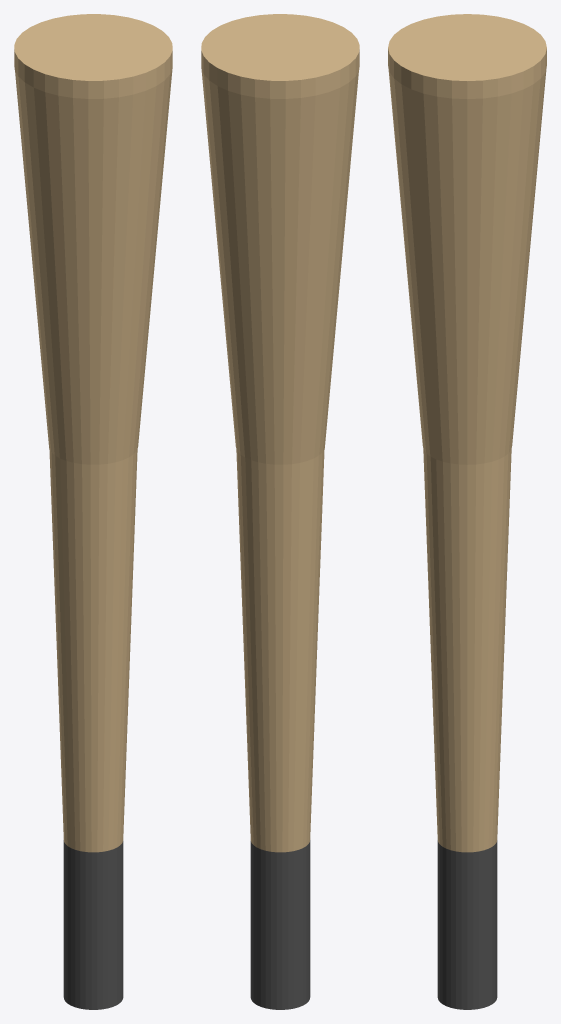
The model's file is BaseballBat.glb.
The picture shows the model from 3 angles, left to right: view 1: azimuth 30°, elevation 25°; view 2: azimuth 150°, elevation 25°; view 3: azimuth 270°, elevation 25°; orthographic projection.
Parts seen in each view (by area): view 1: Bat_Barrel, Bat_Handle, Bat_Cap, Bat_Grip; view 2: Bat_Barrel, Bat_Handle, Bat_Cap, Bat_Grip; view 3: Bat_Barrel, Bat_Handle, Bat_Cap, Bat_Grip.
Boxes of the visible parts, left/top/right/bottom form: Bat_Barrel: left=15, top=69, right=172, bottom=464; Bat_Handle: left=49, top=449, right=137, bottom=852; Bat_Cap: left=14, top=14, right=172, bottom=98; Bat_Grip: left=63, top=840, right=123, bottom=1009; Bat_Barrel: left=201, top=69, right=358, bottom=464; Bat_Handle: left=236, top=449, right=324, bottom=852; Bat_Cap: left=201, top=14, right=359, bottom=98; Bat_Grip: left=250, top=840, right=310, bottom=1009; Bat_Barrel: left=388, top=68, right=546, bottom=464; Bat_Handle: left=423, top=449, right=511, bottom=852; Bat_Cap: left=388, top=14, right=546, bottom=98; Bat_Grip: left=437, top=840, right=497, bottom=1009.
Bounding box in the file's own units: 0.32 × 2.11 × 0.32.
